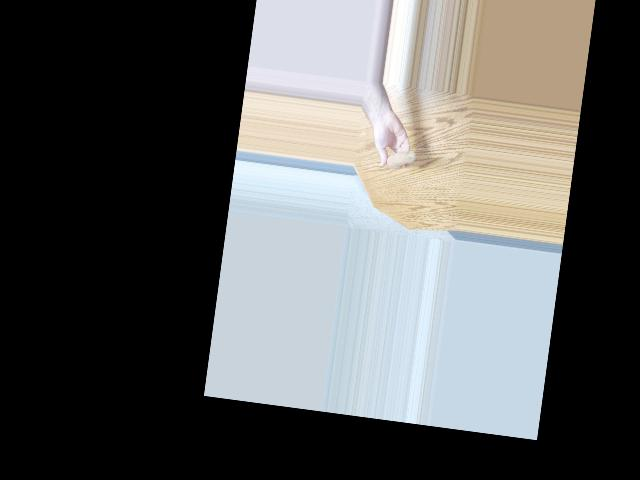sweet_potato: (384, 146, 416, 168)
